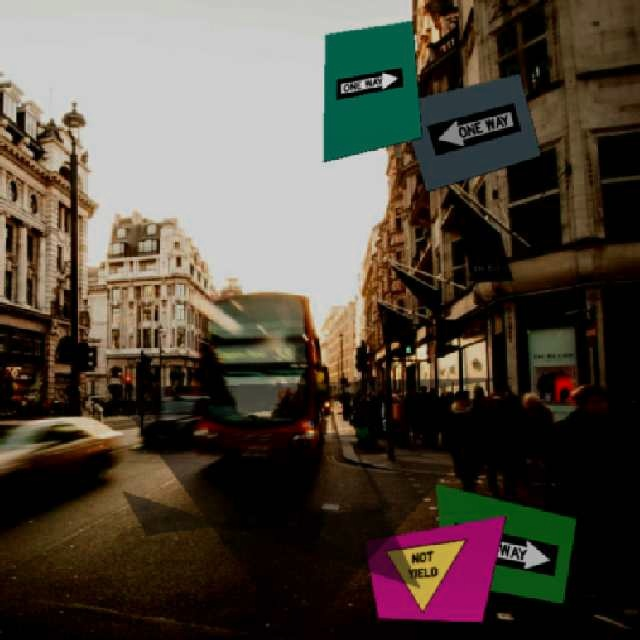NOT_YIELD: (382, 538, 477, 619)
ONE_WAY_ left: (425, 102, 523, 154)
ONE_WAY_ right: (451, 521, 558, 575), (335, 67, 402, 99)
